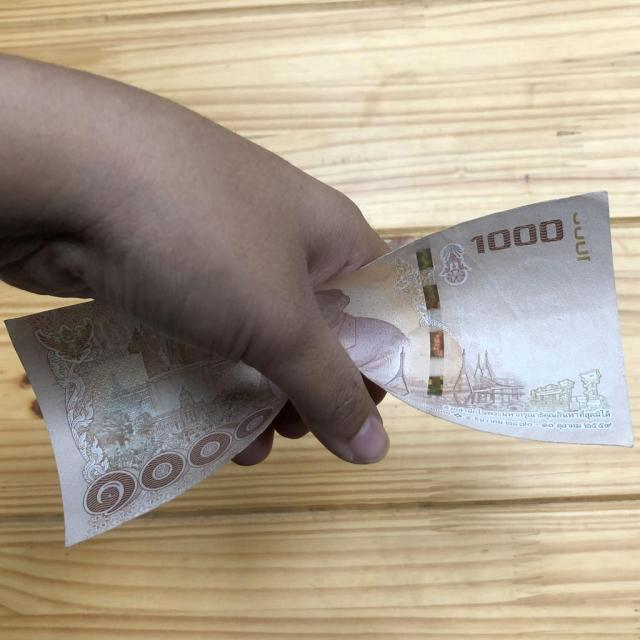THAI1000: (316, 191, 632, 446), (6, 301, 285, 546)
